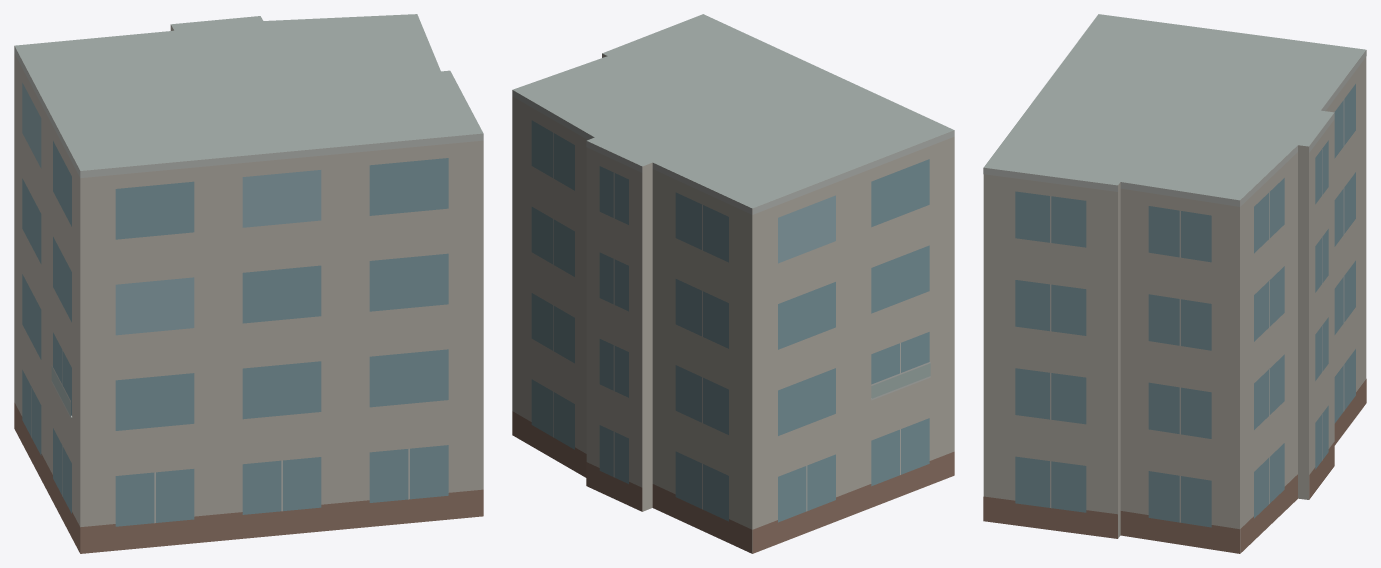
File: survey-upis-32808108.glb
3 views of the same model, side by side, from view 1: azimuth 30°, elevation 25°; view 2: azimuth 150°, elevation 25°; view 3: azimuth 270°, elevation 25° (orthographic). The views are drawn at different scales.
Parts seen in each view (by area): view 1: survey-upis-32808108.tmp; view 2: survey-upis-32808108.tmp; view 3: survey-upis-32808108.tmp.
Boxes of the visible parts, x1,y1,x2,y2 form: survey-upis-32808108.tmp: [14, 14, 483, 553]; survey-upis-32808108.tmp: [512, 14, 954, 553]; survey-upis-32808108.tmp: [983, 14, 1366, 553].
Size of the model in its own units: 14.82 by 13.1 by 12.87.
